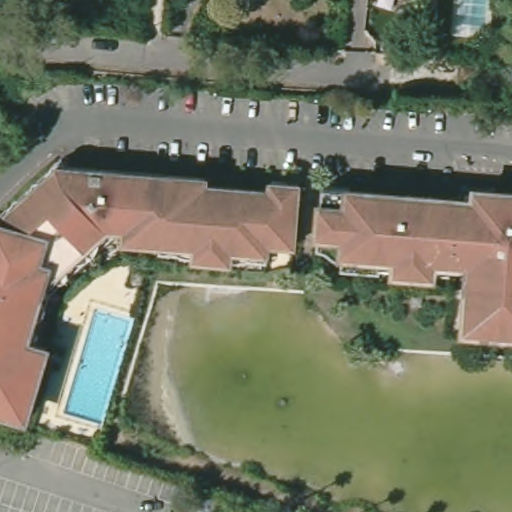pool: (59, 305, 137, 428)
